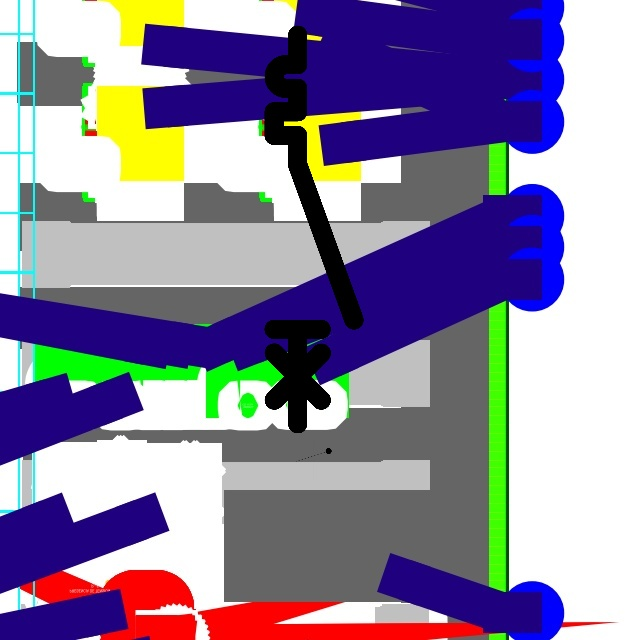interruptor_termomagnetico: (264, 25, 364, 433)
